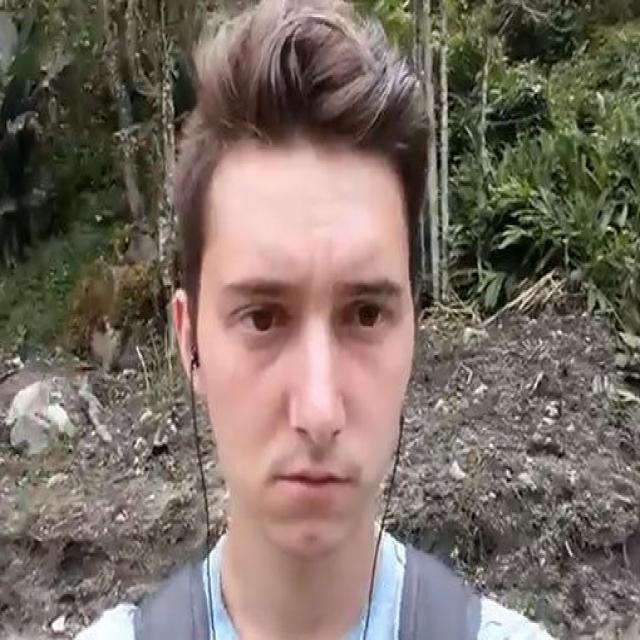earlobe: (170, 290, 206, 397)
